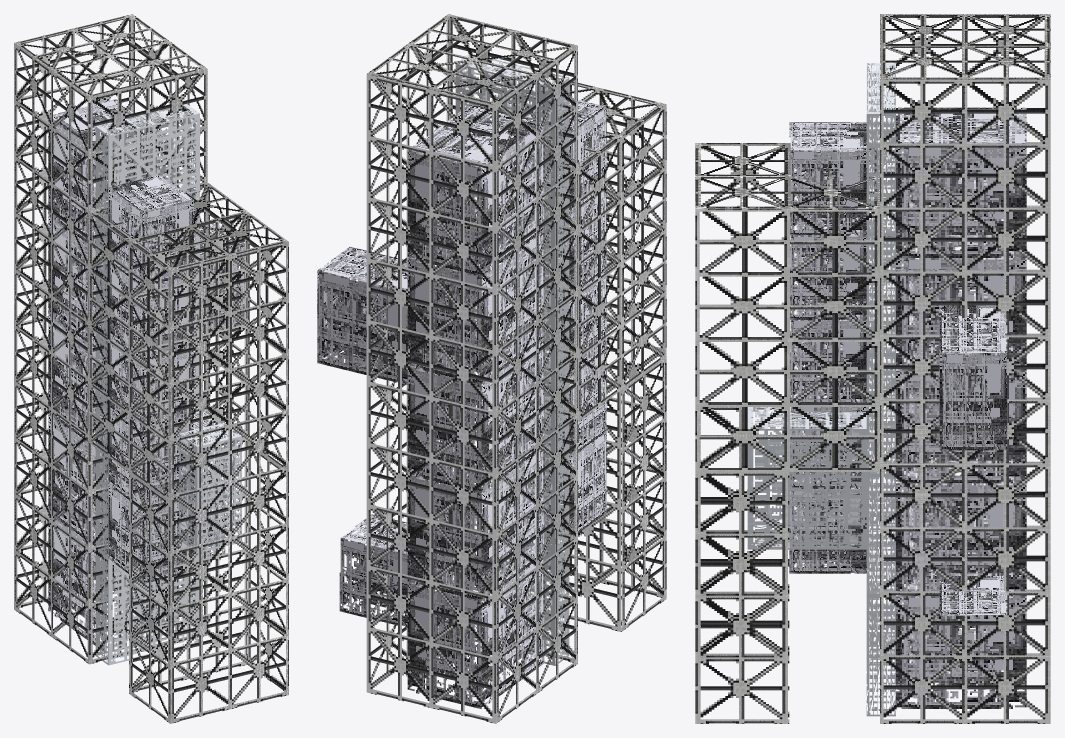
The model's file is uvmd-0138.glb.
The picture shows the model from 3 angles, left to right: view 1: azimuth 30°, elevation 25°; view 2: azimuth 150°, elevation 25°; view 3: azimuth 270°, elevation 25°; orthographic projection. The views are drawn at different scales.
Parts seen in each view (by area): view 1: uvmd-0138; view 2: uvmd-0138; view 3: uvmd-0138.
Boxes of the visible parts, bbox=[...] form: uvmd-0138: bbox=[14, 14, 288, 723]; uvmd-0138: bbox=[317, 14, 666, 723]; uvmd-0138: bbox=[695, 14, 1050, 723].
Bounding box in the file's own units: 270 × 800 × 400.
Materials: 3 (3 with a texture image).
